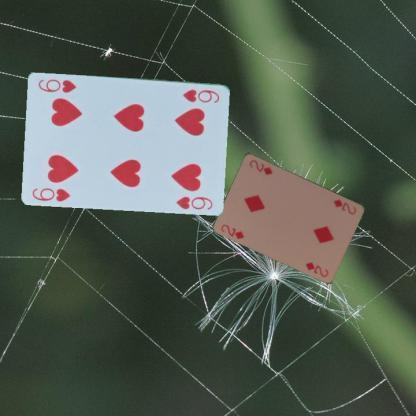2d: (331, 197, 358, 216), (218, 222, 246, 240)
6h: (180, 86, 222, 104), (30, 185, 72, 203)
